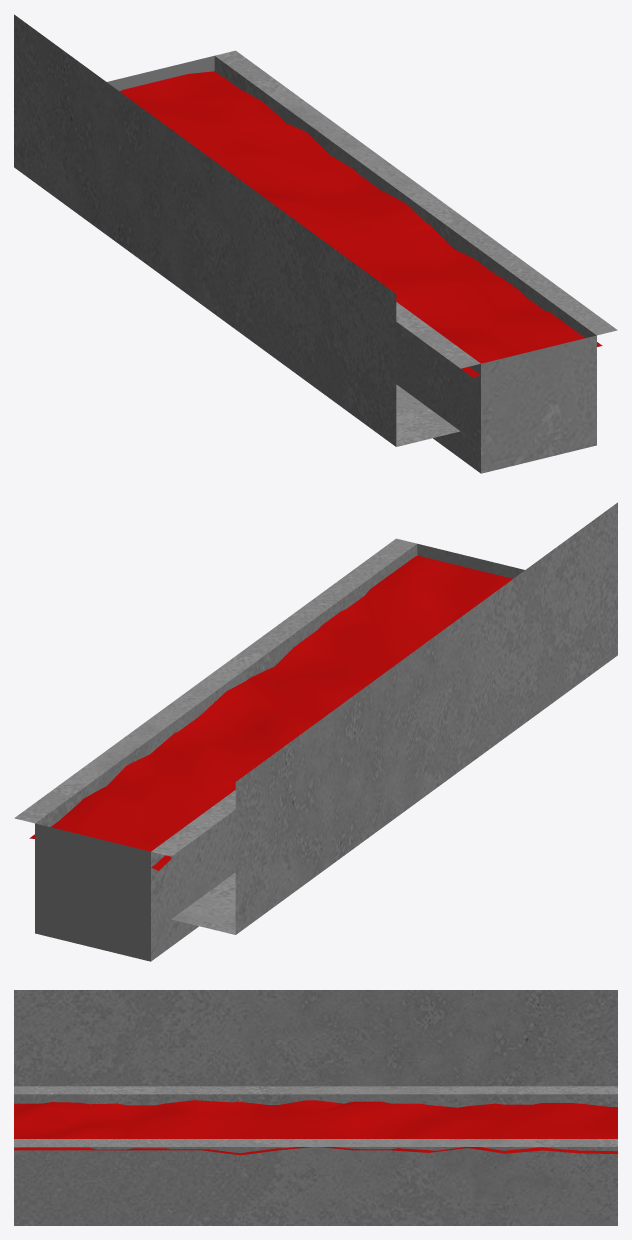
Rendered from boxE.fbx.
3 renders of one model, top to bottom at view 1: azimuth 30°, elevation 25°; view 2: azimuth 150°, elevation 25°; view 3: azimuth 270°, elevation 25°, orthographic. The views are drawn at different scales.
Parts seen in each view (by area): view 1: boxE, boxEgrass; view 2: boxE, boxEgrass; view 3: boxE, boxEgrass.
Part boxes in pixels (x1=…): boxE: x1=14, y1=14, x2=617, y2=473; boxEgrass: x1=120, y1=71, x2=602, y2=377; boxE: x1=14, y1=502, x2=617, y2=961; boxEgrass: x1=29, y1=555, x2=512, y2=870; boxE: x1=14, y1=990, x2=617, y2=1225; boxEgrass: x1=14, y1=1100, x2=617, y2=1155.
Size of the model in its own units: 134 by 116 by 400.
